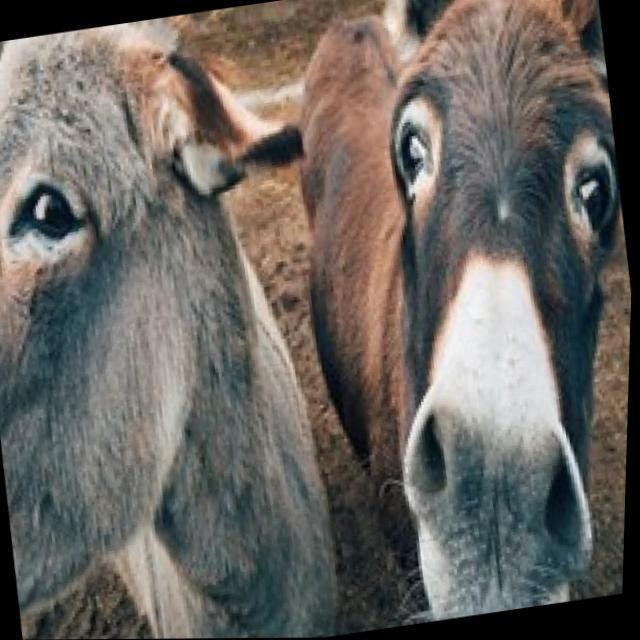Donkey: (0, 0, 378, 640), (260, 0, 640, 631)
